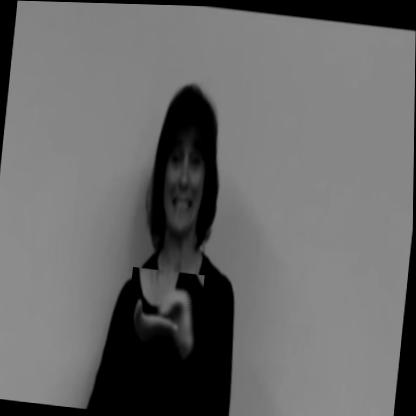ExcuseMe: (124, 266, 205, 380)
